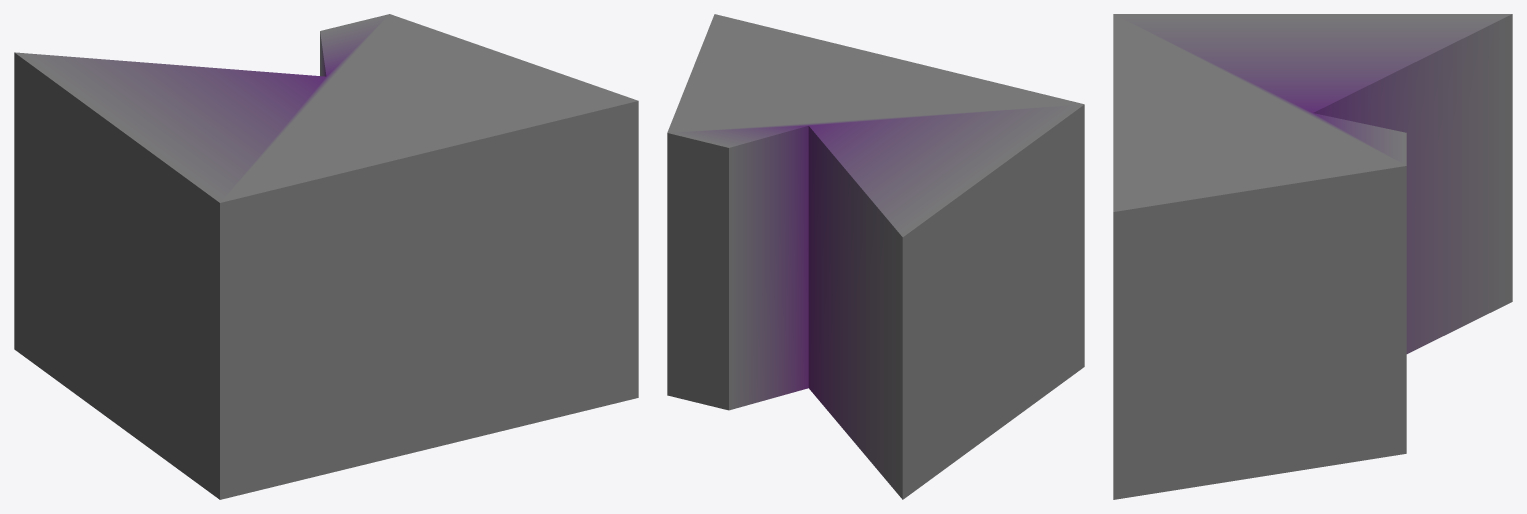
3 views of the same model, side by side, from view 1: azimuth 30°, elevation 25°; view 2: azimuth 150°, elevation 25°; view 3: azimuth 270°, elevation 25° (orthographic). The views are drawn at different scales.
Visible parts, largest first — view 1: block; view 2: block; view 3: block.
Part boxes in pixels (x1,y1,x2,y2): block: (14,14,638,499); block: (667,14,1084,499); block: (1113,14,1512,499).
Size of the model in its own units: 0.03 by 0.0203 by 0.0255.
